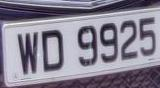2: (118, 15, 141, 65)
5: (137, 9, 158, 62)
9: (75, 21, 100, 71), (97, 18, 120, 65)
D: (40, 24, 67, 78)
W: (16, 27, 40, 80)
